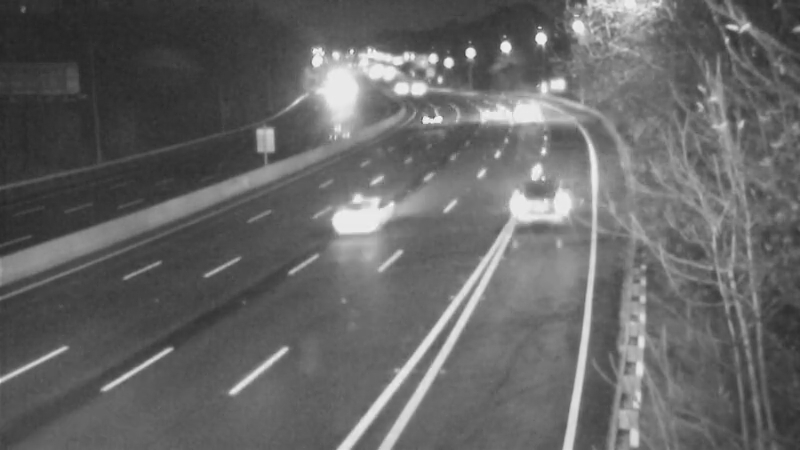vehicle: (502, 166, 582, 246), (298, 178, 378, 258), (463, 87, 513, 137), (497, 89, 547, 139), (408, 89, 458, 139)
